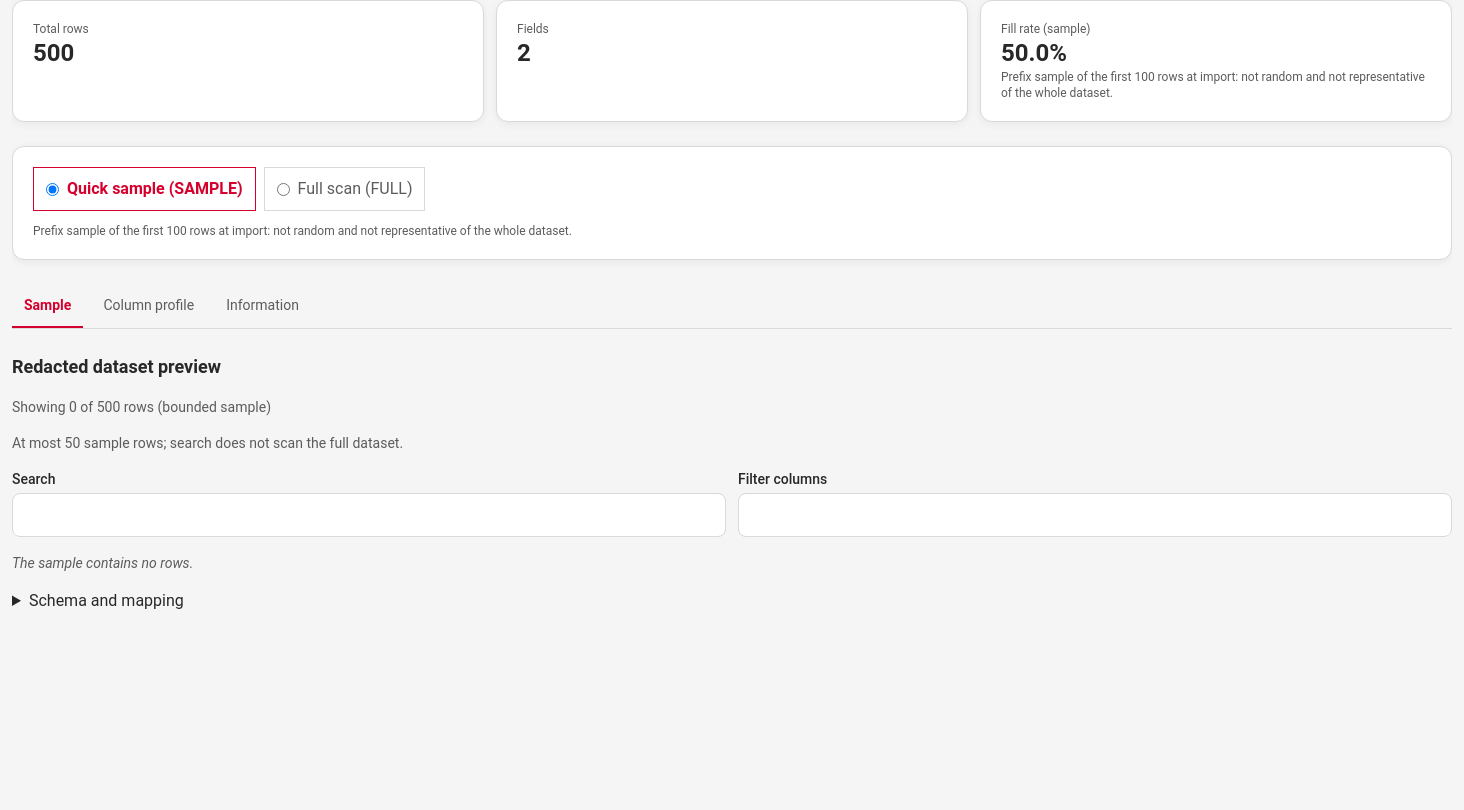
uses each column's own sample denominator
Click the tab "Column profile".
click(149, 306)  # box [91,284,206,328]
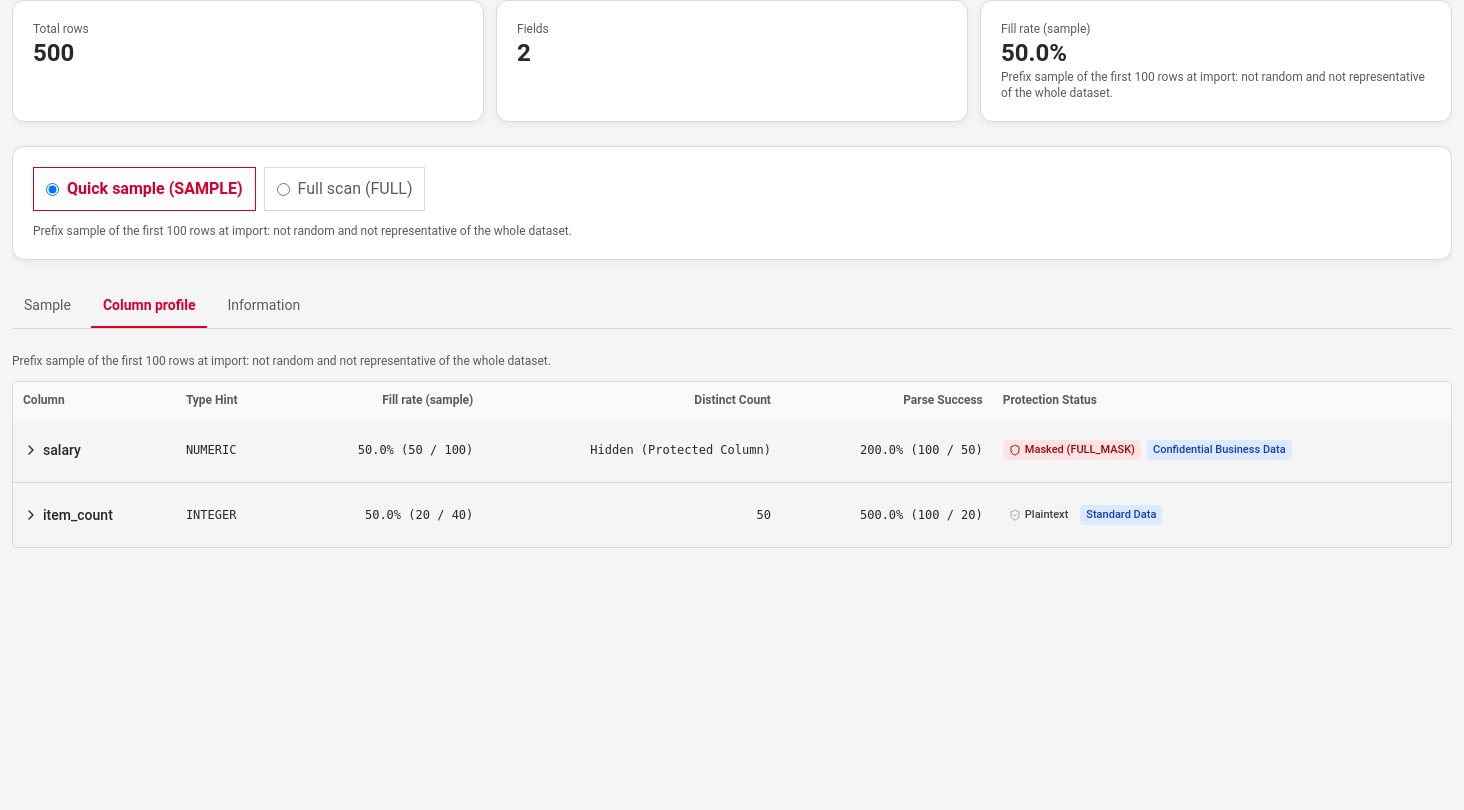
Expected: the cell "50.0% (50 / 100)" is shown, [282,418,483,482]
Expected: the cell "50.0% (20 / 40)" is shown, [282,482,483,547]
